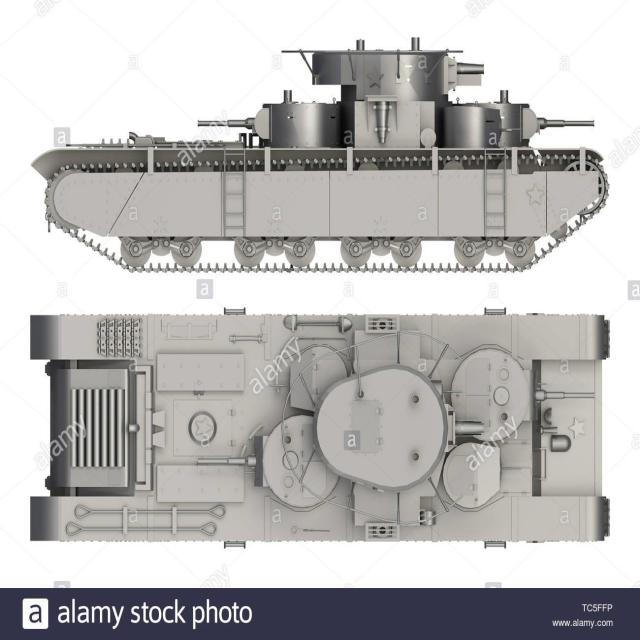Tanks: (20, 32, 615, 281), (25, 301, 612, 552)
